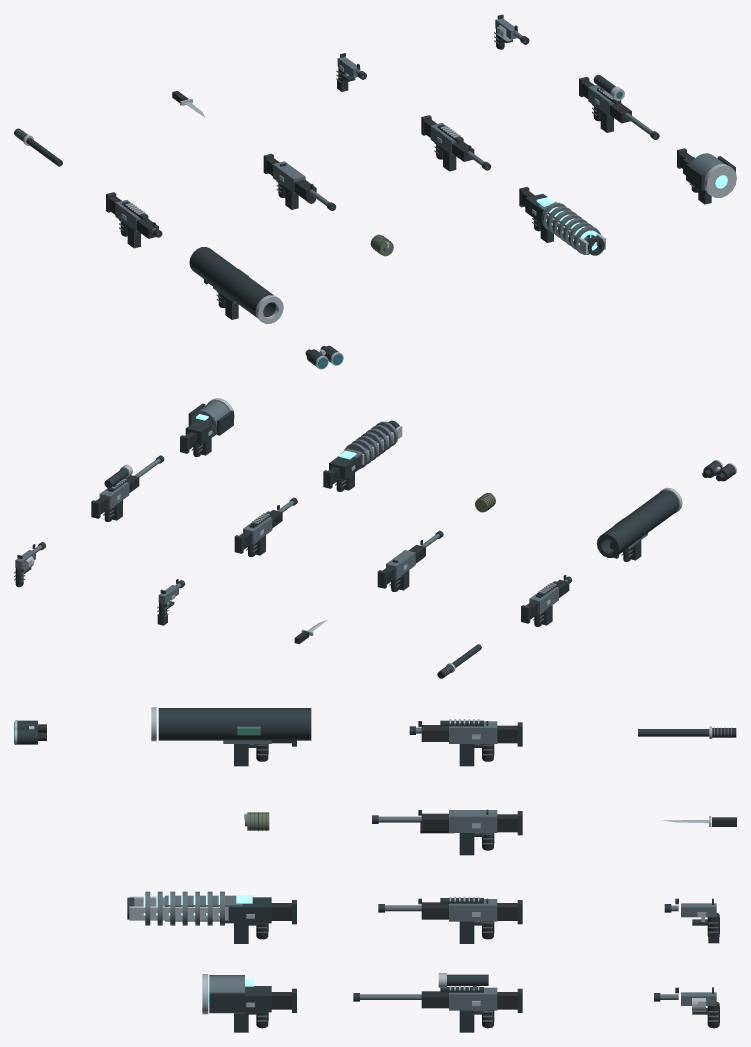
File: dc019-equipment.glb
3 views of the same model, one above another, from view 1: azimuth 30°, elevation 25°; view 2: azimuth 150°, elevation 25°; view 3: azimuth 270°, elevation 25° (orthographic). The views are drawn at different scales.
Parts seen in each view (by area): view 1: launcher_part5, gauss_part5, emp_part2, gauss_part0, shotgun_part0, emp_part0, sniper_part0; view 2: launcher_part5, gauss_part5, emp_part0, gauss_part0, shotgun_part0, sniper_part0, sniper_part3, emp_part5, rifle_part0; view 3: launcher_part5, gauss_part5, emp_part0, shotgun_part0, sniper_part0, gauss_part0, gauss_part2, rifle_part0, sniper_part3, shotgun_part4, smg_part0, sniper_part5 (+8 smaller).
Boxes of the visible parts, x1,y1,x2,y2 form: launcher_part5: (189, 247, 276, 317); gauss_part5: (538, 201, 600, 254); emp_part2: (704, 164, 736, 197); gauss_part0: (519, 187, 604, 255); shotgun_part0: (273, 161, 333, 208); emp_part0: (677, 148, 735, 191); sniper_part0: (588, 85, 656, 137); launcher_part5: (596, 490, 678, 557); gauss_part5: (341, 421, 398, 468); emp_part0: (180, 403, 233, 453); gauss_part0: (323, 420, 399, 488); shotgun_part0: (386, 533, 439, 578); sniper_part0: (99, 458, 160, 508); sniper_part3: (91, 455, 164, 518); emp_part5: (191, 401, 229, 437); rifle_part0: (243, 500, 294, 544); launcher_part5: (158, 708, 311, 740); gauss_part5: (145, 891, 242, 925); emp_part0: (209, 975, 296, 1014); shotgun_part0: (378, 810, 497, 832); sniper_part0: (360, 985, 497, 1010); gauss_part0: (127, 897, 296, 925); gauss_part2: (129, 896, 254, 920); rifle_part0: (385, 899, 497, 921); sniper_part3: (353, 974, 522, 1014); shotgun_part4: (420, 813, 517, 833); smg_part0: (416, 721, 497, 743); sniper_part5: (421, 991, 517, 1009).
Bounding box in the file's own units: 4.31 × 0.405 × 4.65.
